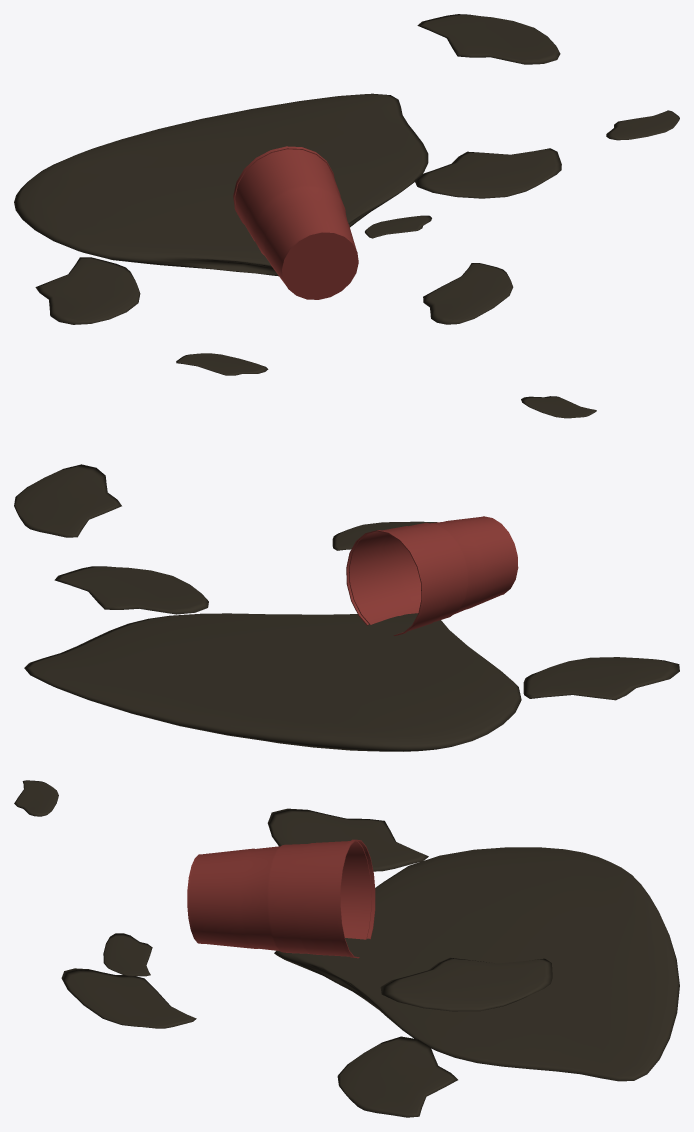
File: vaso y cafe.fbx
3 views of the same model, one above another, from view 1: azimuth 30°, elevation 25°; view 2: azimuth 150°, elevation 25°; view 3: azimuth 270°, elevation 25° (orthographic). The views are drawn at different scales.
Visible parts, largest first — view 1: pCube17, pCylinder1, pCube23, pCube19, pCube16, pCube24, pCube18, pCube25; view 2: pCube17, pCylinder1, pCube16, pCube19, pCube23, pCube18, pCube25, pCube24; view 3: pCube17, pCylinder1, pCube16, pCube23, pCube24, pCube19, pCube18, pCube25.
Part boxes in pixels (x1,y1,x2,y2): pCube17: (14, 93, 428, 276); pCylinder1: (233, 146, 358, 299); pCube23: (414, 148, 561, 198); pCube19: (35, 257, 140, 324); pCube16: (417, 14, 560, 64); pCube24: (423, 263, 513, 324); pCube18: (606, 110, 679, 140); pCube25: (365, 215, 431, 238); pCube17: (24, 613, 521, 751); pCylinder1: (346, 516, 518, 635); pCube16: (14, 464, 121, 537); pCube19: (523, 657, 679, 700); pCube23: (54, 566, 208, 614); pCube18: (176, 353, 268, 375); pCube25: (521, 396, 596, 418); pCube24: (332, 521, 437, 550); pCube17: (274, 847, 679, 1081); pCylinder1: (187, 839, 375, 958); pCube16: (380, 957, 552, 1011); pCube23: (337, 1036, 457, 1117); pCube24: (61, 968, 196, 1028); pCube19: (267, 808, 428, 871); pCube18: (103, 933, 152, 976); pCube25: (14, 780, 58, 816).
Size of the model in its own units: 18.84 by 4.36 by 17.03.
